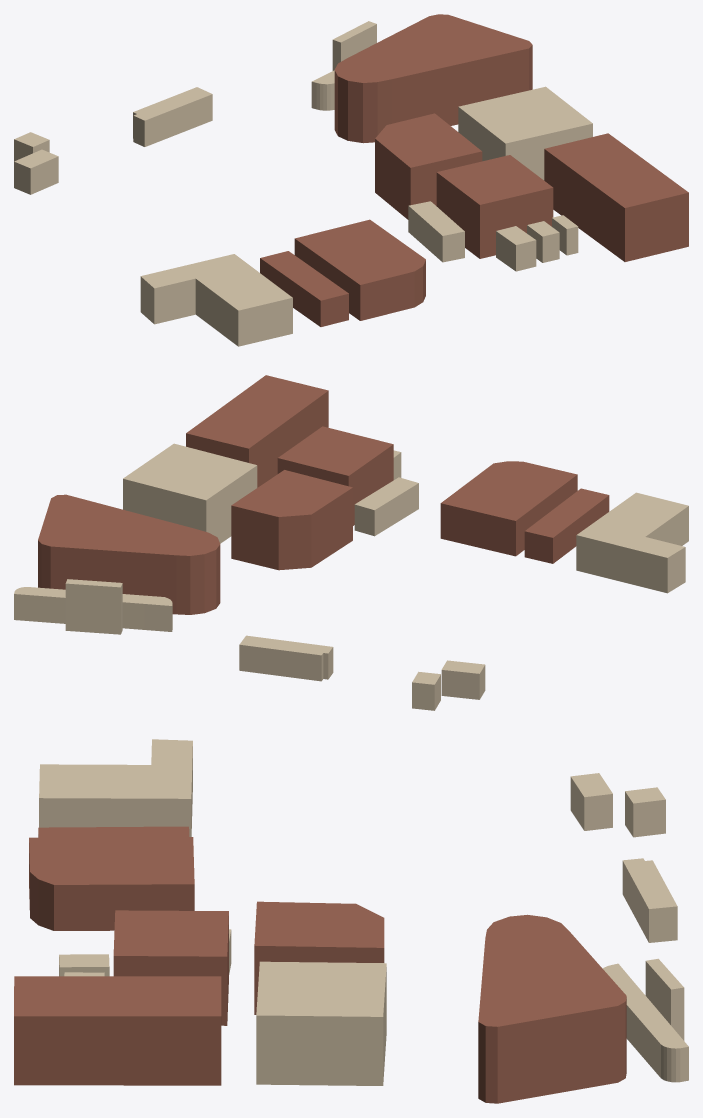
The model's file is city_-2_-4.glb.
The picture shows the model from 3 angles, top to bottom: view 1: azimuth 30°, elevation 25°; view 2: azimuth 150°, elevation 25°; view 3: azimuth 270°, elevation 25°; orthographic projection. The views are drawn at different scales.
Visible parts, largest first — view 1: city_-2_-4; view 2: city_-2_-4; view 3: city_-2_-4.
Boxes of the visible parts, <box> form: city_-2_-4: <box>14,14,688,346</box>; city_-2_-4: <box>14,375,688,710</box>; city_-2_-4: <box>14,739,688,1103</box>.
Bounding box in the file's own units: 302 × 34 × 271.
